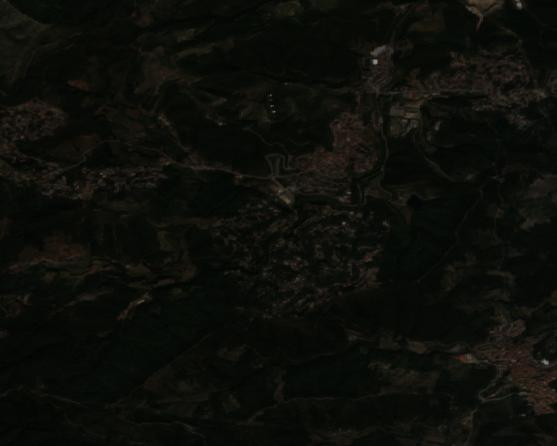Poblacion: (222, 76, 417, 238), (1, 99, 231, 200), (436, 292, 557, 430), (370, 40, 557, 128)
